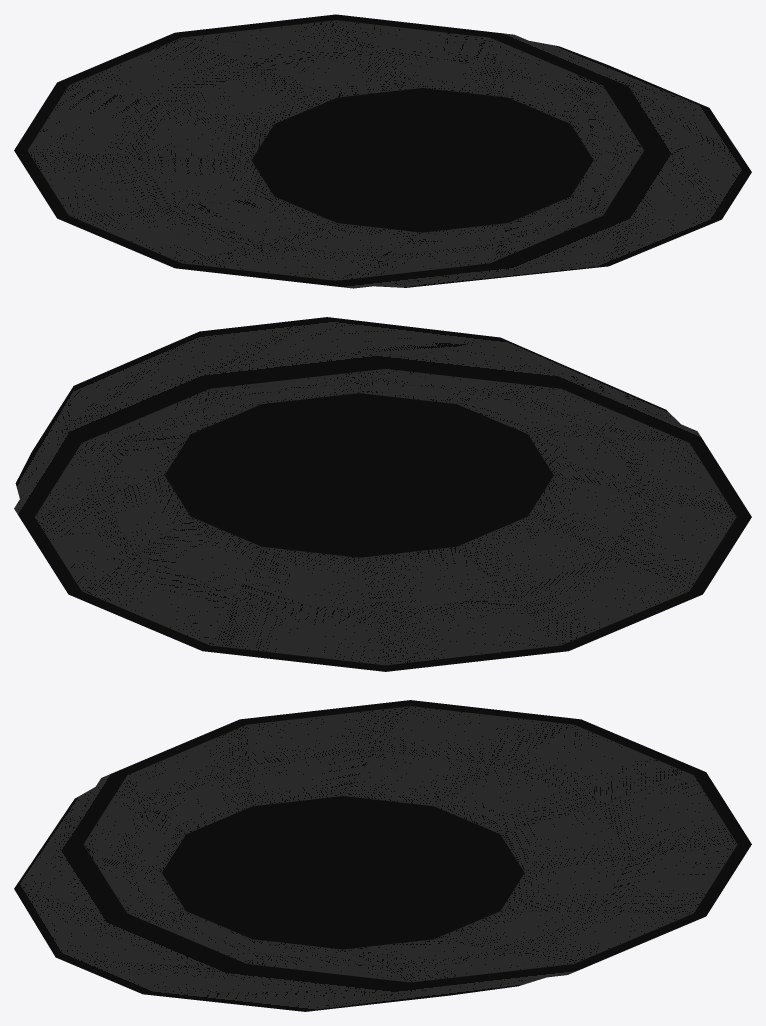
The picture shows the model from 3 angles, top to bottom: view 1: azimuth 30°, elevation 25°; view 2: azimuth 150°, elevation 25°; view 3: azimuth 270°, elevation 25°; orthographic projection. The views are drawn at different scales.
Parts seen in each view (by area): view 1: Joint_0_Object_0; view 2: Joint_0_Object_0; view 3: Joint_0_Object_0.
Boxes of the visible parts, bbox=[...] form: Joint_0_Object_0: bbox=[14, 14, 751, 288]; Joint_0_Object_0: bbox=[14, 317, 751, 671]; Joint_0_Object_0: bbox=[14, 700, 751, 1011].
Bounding box in the file's own units: 549 × 0 × 549.
